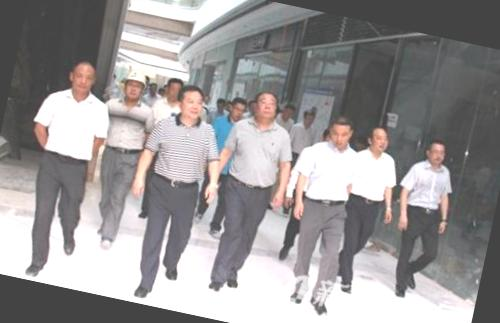no_helmet: (62, 53, 103, 100), (174, 81, 210, 123), (324, 111, 360, 150), (250, 87, 285, 127), (362, 120, 394, 156), (420, 135, 452, 169), (159, 76, 186, 106), (224, 93, 250, 124), (298, 106, 318, 130)
